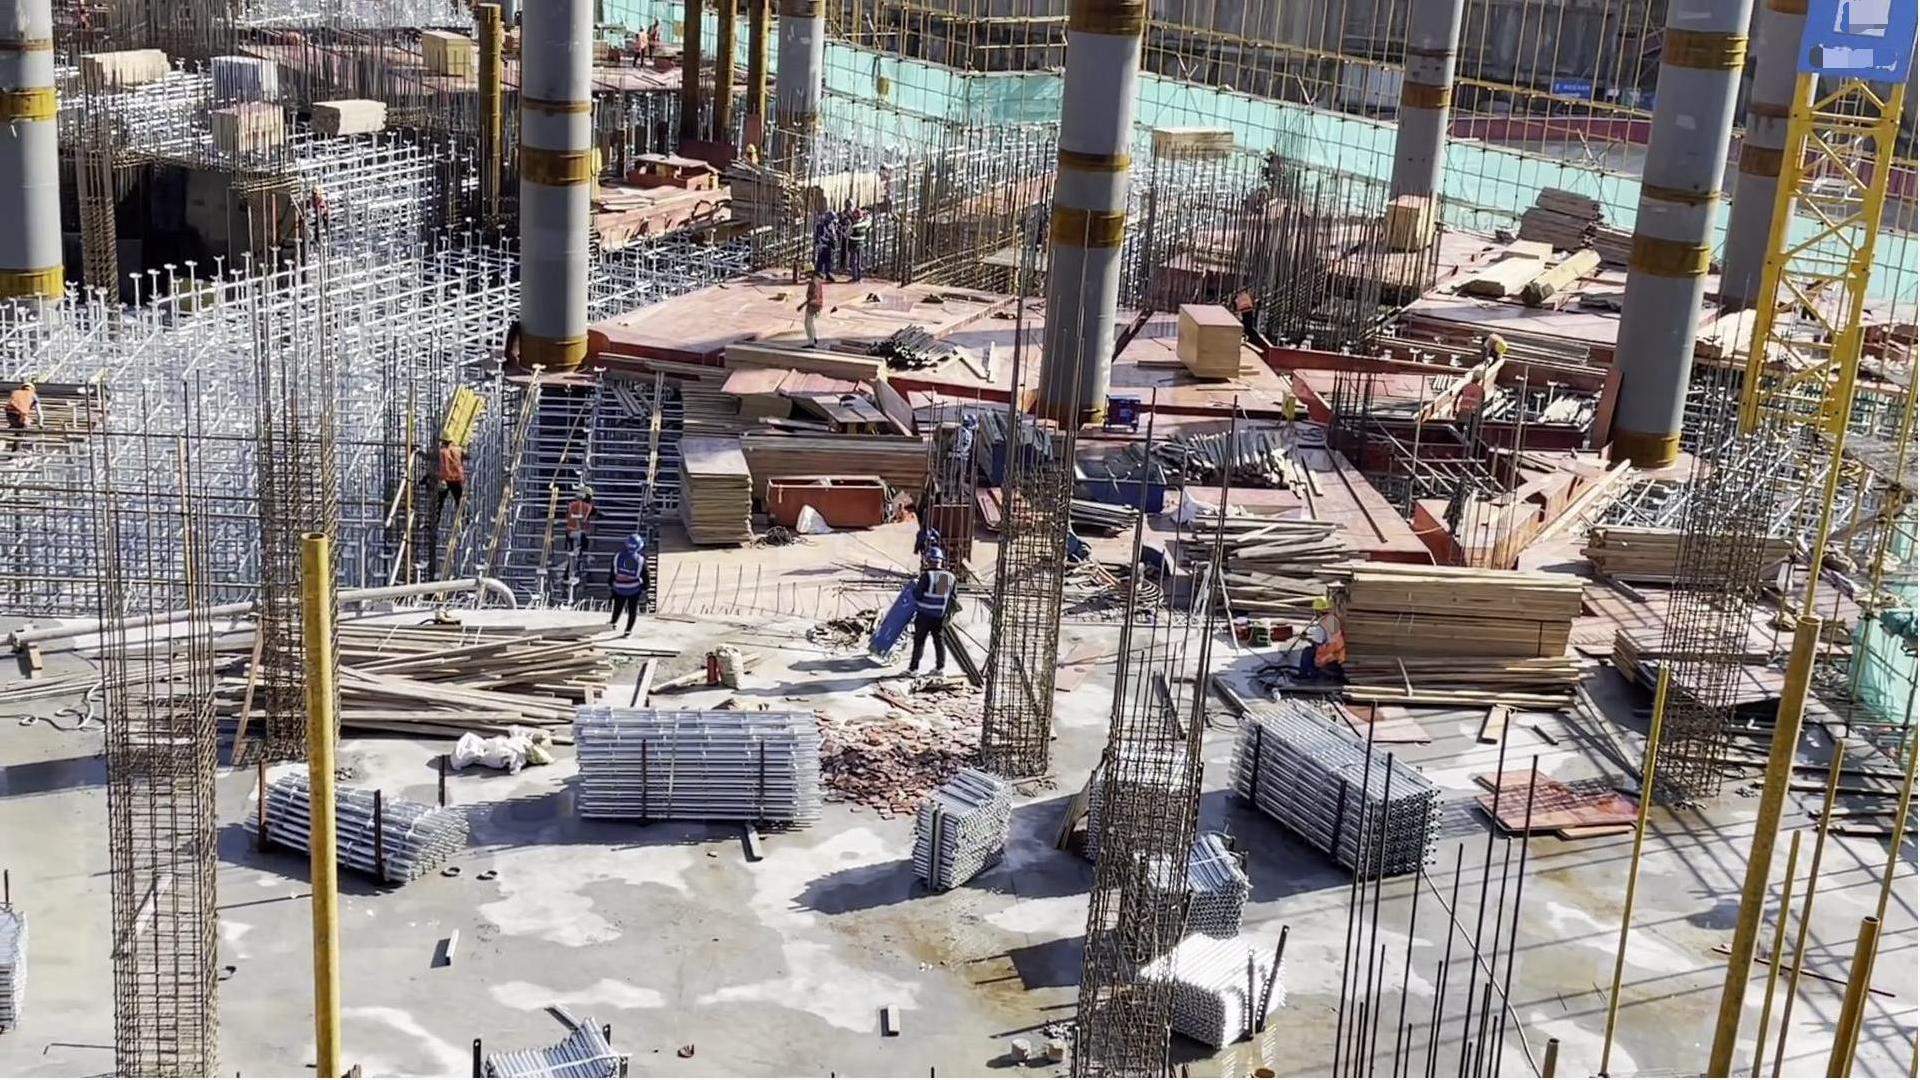board: (1614, 622, 1788, 715), (1475, 767, 1643, 845), (678, 437, 753, 545), (743, 437, 928, 476), (1171, 299, 1240, 378), (211, 96, 285, 159), (720, 367, 794, 423), (678, 375, 731, 433), (1384, 193, 1429, 255), (420, 28, 471, 77)
cutter: (630, 149, 719, 194), (810, 390, 893, 438)
ebox: (1278, 387, 1298, 426)
helmet: (625, 533, 643, 552), (1307, 596, 1330, 611), (922, 547, 944, 561), (436, 430, 455, 443), (801, 262, 816, 273)
person: (907, 545, 956, 672), (606, 534, 651, 632), (1301, 593, 1346, 690), (415, 428, 466, 505), (948, 415, 978, 499), (565, 487, 599, 557), (796, 263, 823, 347), (1453, 368, 1485, 436), (3, 381, 44, 430), (846, 209, 871, 285), (811, 213, 839, 281), (308, 185, 332, 246), (1234, 285, 1255, 340), (632, 24, 649, 71), (647, 16, 662, 63), (743, 143, 758, 166)
scaffold: (1231, 701, 1440, 874), (571, 704, 821, 836), (240, 769, 467, 883), (1135, 931, 1291, 1054), (914, 764, 1008, 895), (1130, 833, 1247, 938), (474, 1008, 634, 1080), (1, 896, 29, 1028)
vest: (917, 571, 956, 620), (608, 551, 646, 600), (1315, 614, 1346, 671), (435, 444, 463, 485), (566, 503, 595, 541), (7, 389, 34, 419), (804, 275, 823, 307)
wood: (1340, 558, 1583, 706), (334, 617, 610, 739), (1582, 524, 1796, 599), (1197, 506, 1344, 611), (1167, 427, 1297, 490), (83, 46, 171, 97), (1456, 249, 1538, 302), (800, 169, 884, 211), (1152, 123, 1233, 165), (308, 97, 387, 136)
